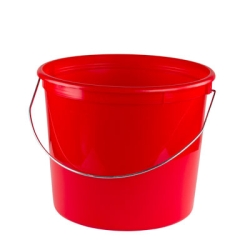Rec_Plastic: (30, 45, 217, 228)
